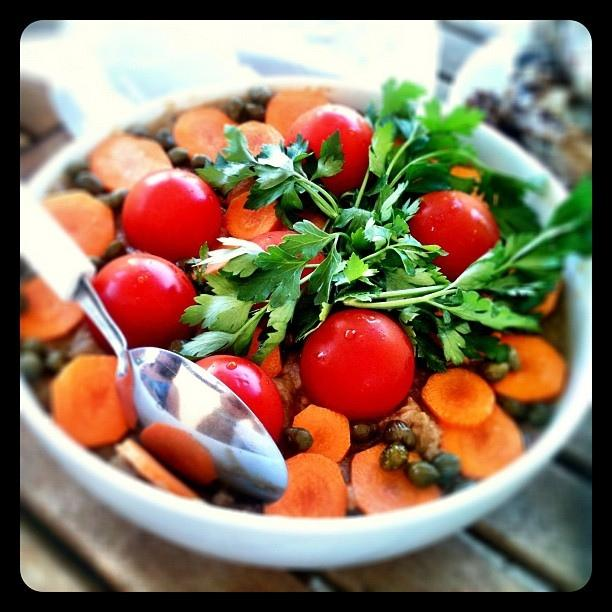carrot: (49, 354, 130, 449), (351, 442, 442, 515), (438, 405, 522, 481), (87, 128, 173, 194), (263, 452, 348, 518), (115, 438, 203, 500), (489, 334, 566, 403), (37, 192, 115, 259), (140, 422, 218, 488), (421, 368, 496, 432), (20, 274, 86, 342), (173, 107, 240, 163), (290, 404, 351, 463), (265, 89, 332, 140), (224, 190, 278, 241), (530, 280, 564, 318), (430, 158, 483, 182), (260, 345, 282, 378)
tomato: (300, 309, 414, 420), (88, 253, 200, 352), (120, 168, 221, 264), (405, 190, 500, 283), (284, 104, 374, 194), (195, 355, 283, 446), (250, 230, 326, 310), (220, 391, 252, 418)
